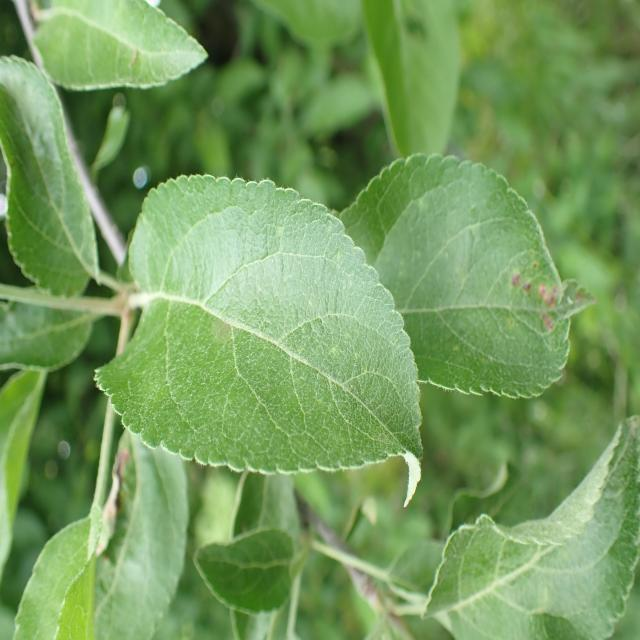scab: (143, 246, 360, 442), (466, 213, 596, 400)
